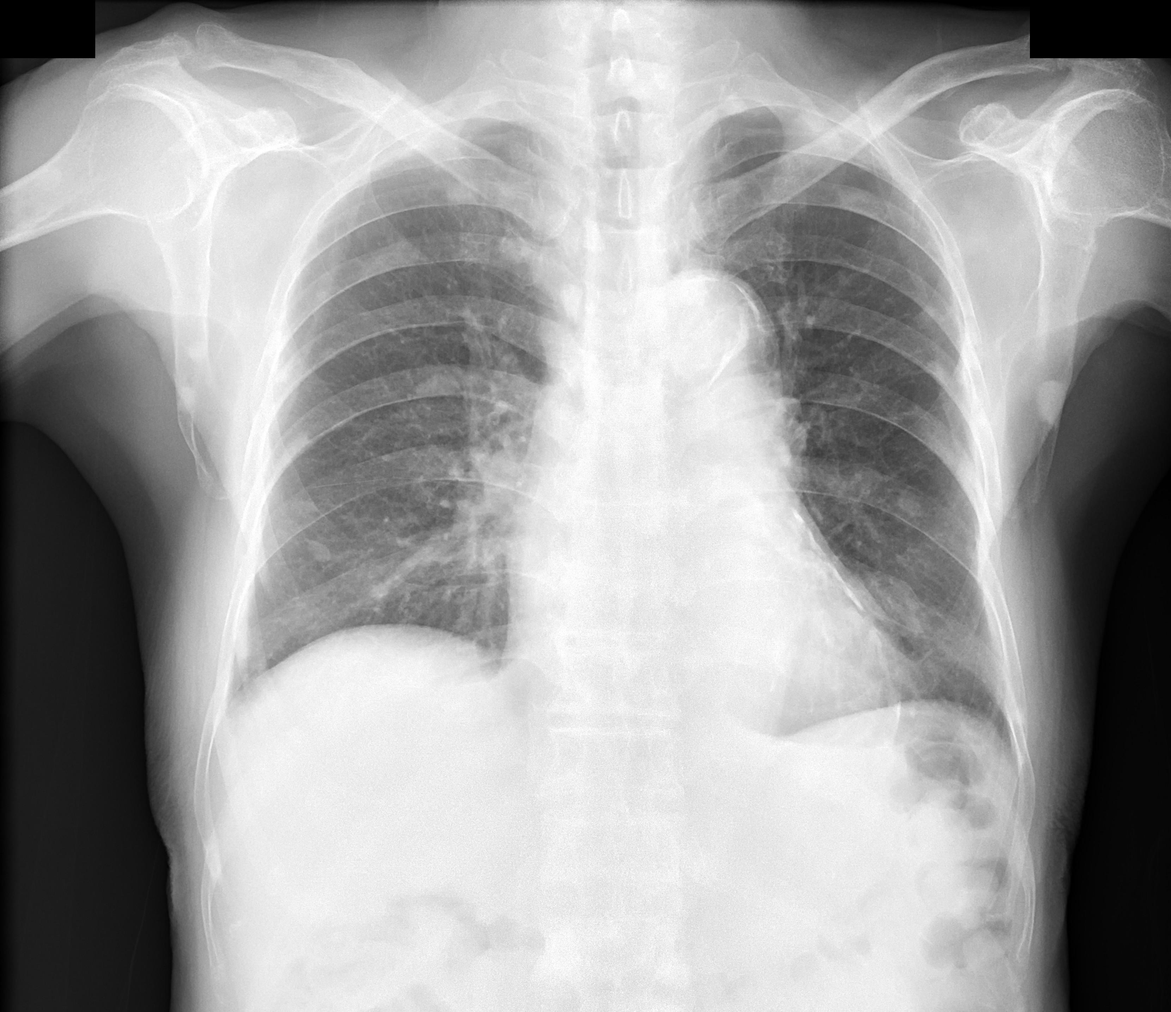Aortic enlargement: (647, 273, 778, 395)
